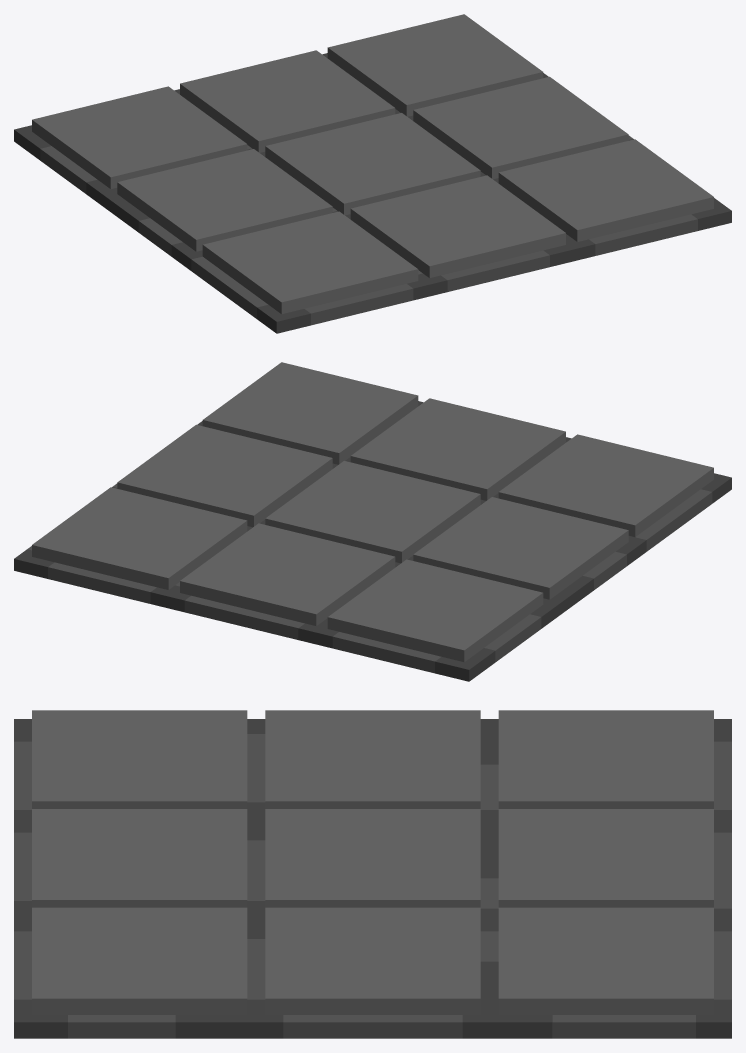
File: Tilemap_Deco_C0_P013.obj
3 views of the same model, one above another, from view 1: azimuth 30°, elevation 25°; view 2: azimuth 150°, elevation 25°; view 3: azimuth 270°, elevation 25° (orthographic). The views are drawn at different scales.
Bounding box in the file's own units: 4 × 0.2 × 4.
Materials: 1 (1 with a texture image).
